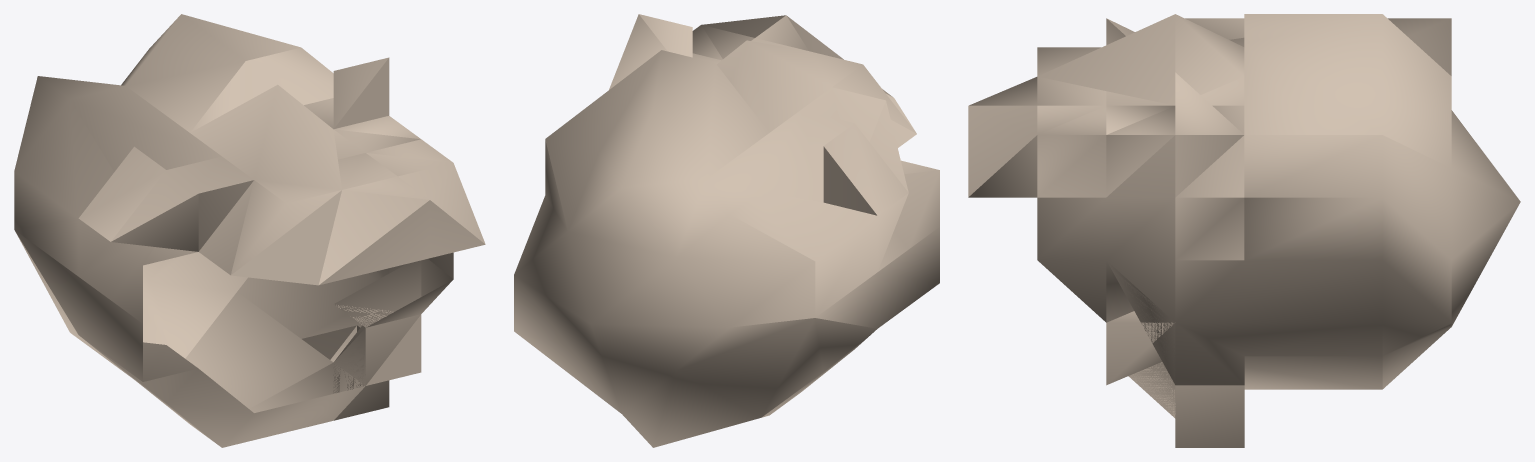
File: m_jet_3a5bd496.glb
The picture shows the model from 3 angles, left to right: view 1: azimuth 30°, elevation 25°; view 2: azimuth 150°, elevation 25°; view 3: azimuth 270°, elevation 25°; orthographic projection. The views are drawn at different scales.
Visible parts, largest first — view 1: mesh; view 2: mesh; view 3: mesh.
Part boxes in pixels (box(x1,y1,x2,y2)): mesh: box(14, 14, 485, 447); mesh: box(514, 14, 939, 447); mesh: box(968, 14, 1520, 447).
Bounding box in the file's own units: 5 × 6 × 8.
